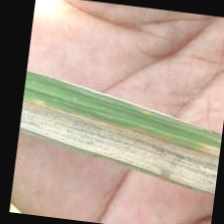Leaf_Blast: (19, 116, 211, 167)
